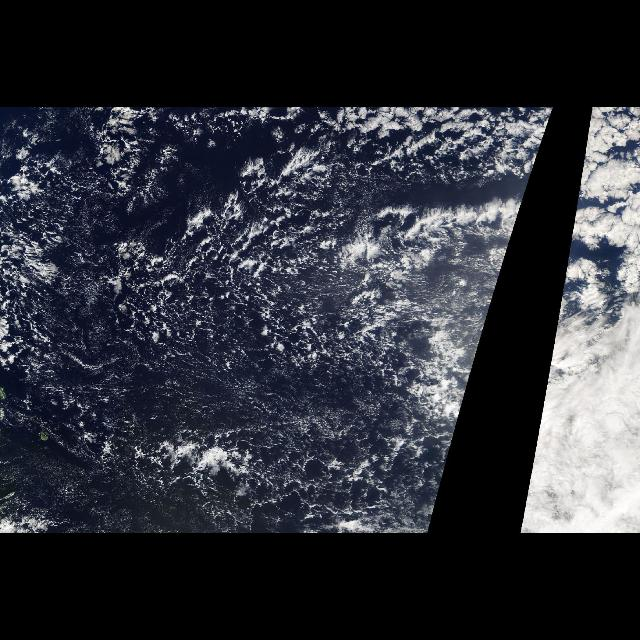Gravel: (6, 111, 394, 496)
